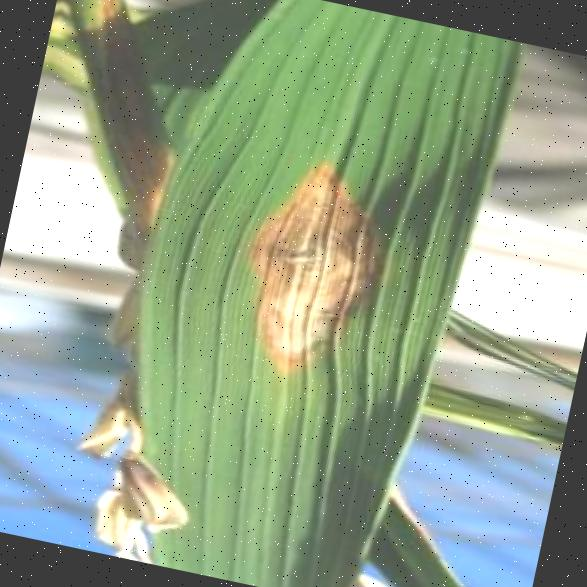Leaf_smut: (191, 111, 425, 402)
